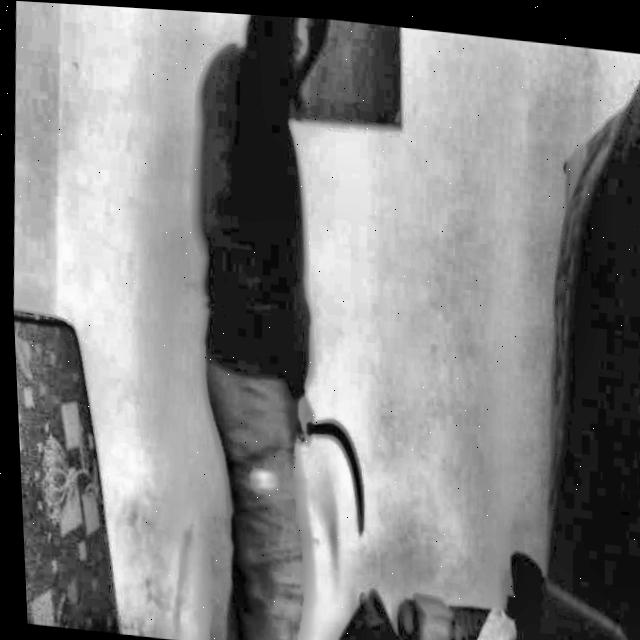robbery: (187, 14, 379, 640)
